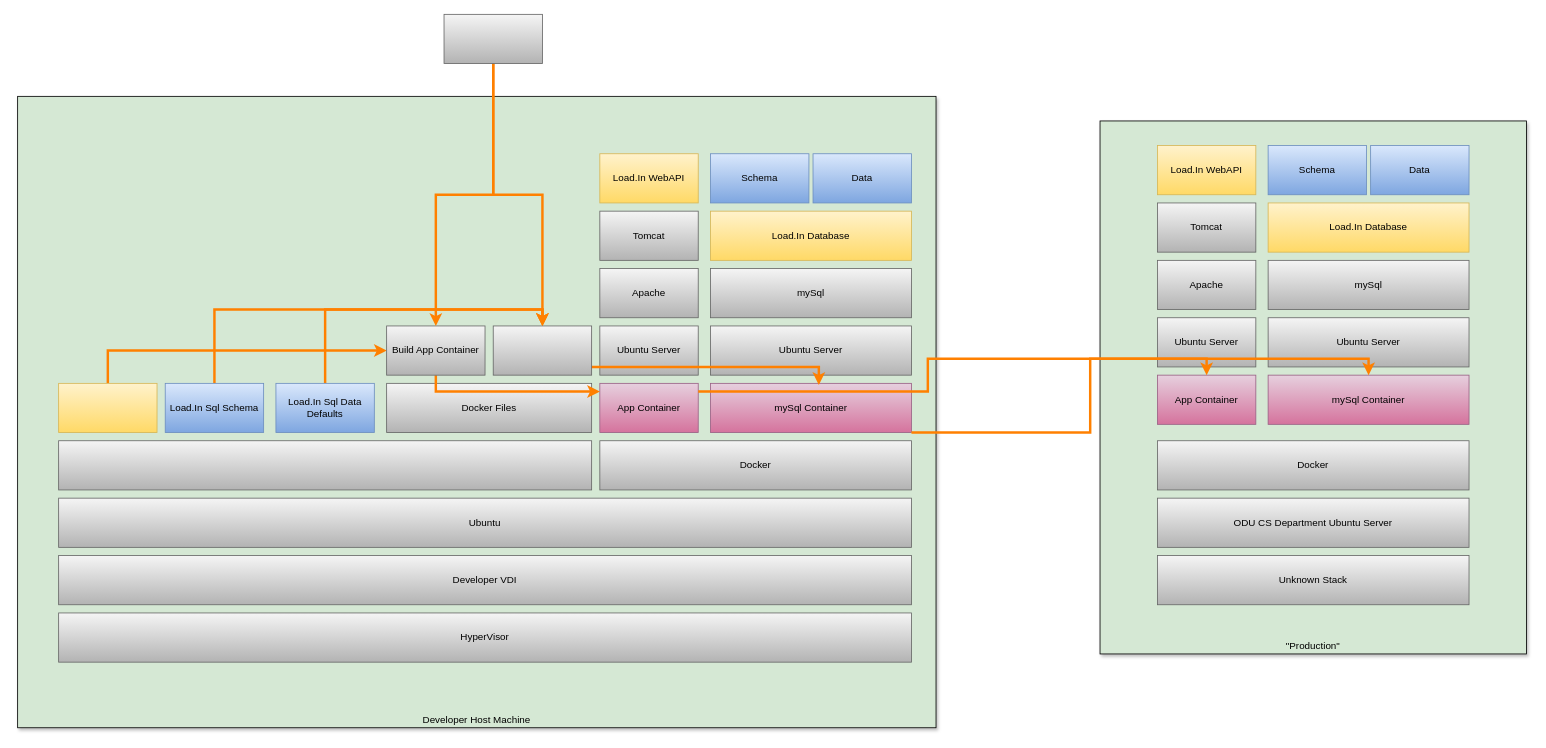
Image size: 1546x748. Some labels were removed from this diagram. Each missing label, with the centre of its shape:
"Build Sql Container" goes at point (542, 350).
"External Docker Dependencies" goes at point (492, 39).
"IntelleJ" goes at point (325, 465).
"Load.In WebAPI Code" goes at point (107, 408).
